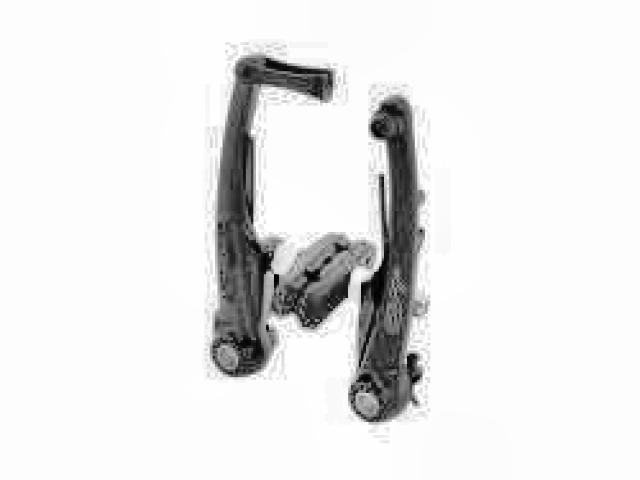rim_brake: (210, 53, 431, 426)
